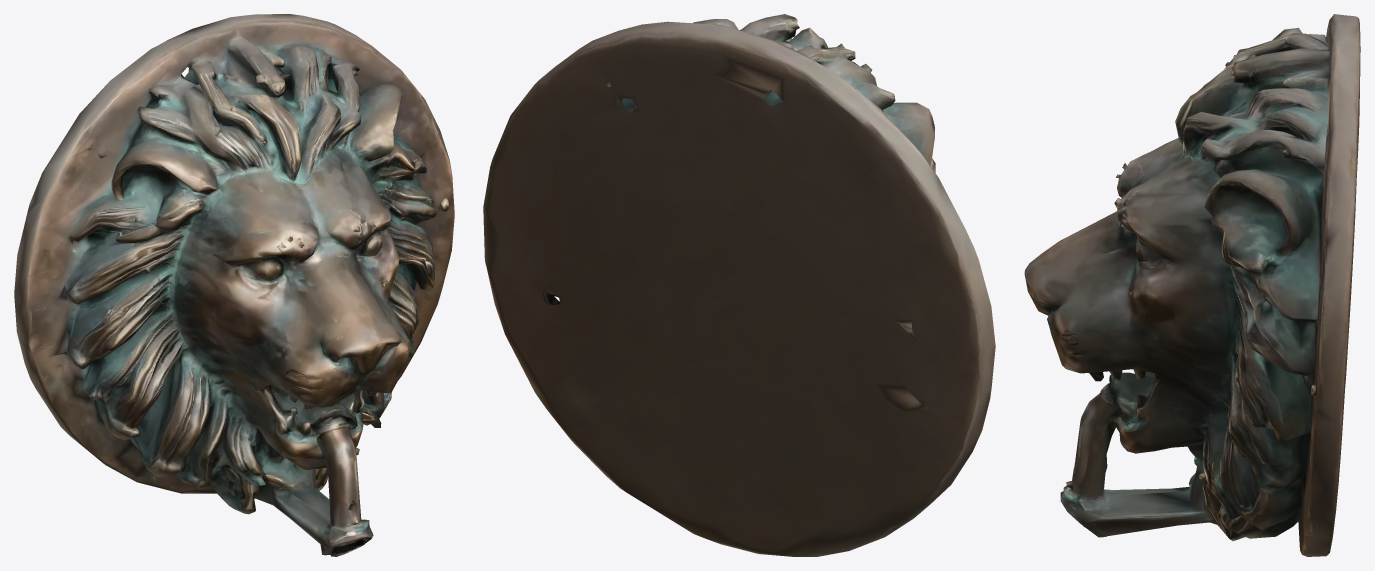
File: lion-fountain.glb
The picture shows the model from 3 angles, left to right: view 1: azimuth 30°, elevation 25°; view 2: azimuth 150°, elevation 25°; view 3: azimuth 270°, elevation 25°; orthographic projection. The views are drawn at different scales.
Visible parts, largest first — view 1: tripo_node_bd380395-9767-493f-a2de-e3f3cac7b106; view 2: tripo_node_bd380395-9767-493f-a2de-e3f3cac7b106; view 3: tripo_node_bd380395-9767-493f-a2de-e3f3cac7b106.
Part boxes in pixels (<box>): tripo_node_bd380395-9767-493f-a2de-e3f3cac7b106: <box>14,14,454,556</box>; tripo_node_bd380395-9767-493f-a2de-e3f3cac7b106: <box>483,14,995,556</box>; tripo_node_bd380395-9767-493f-a2de-e3f3cac7b106: <box>1024,14,1360,556</box>.
Size of the model in its own units: 0.9967 by 0.9999 by 0.6164.
Materials: 1 (1 with a texture image).
